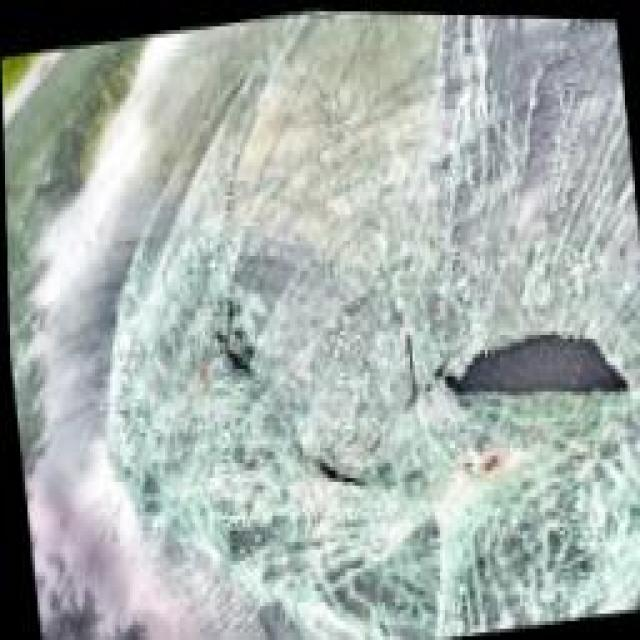Windshield: (50, 0, 640, 639)
